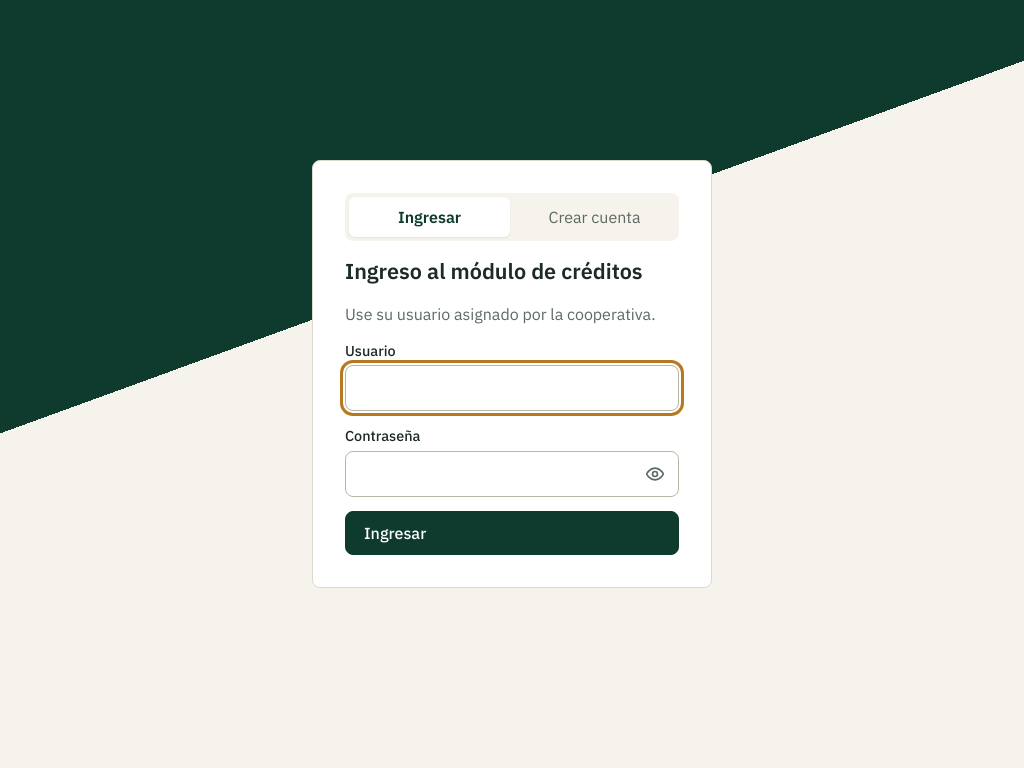
Test: login › muestra el mensaje del servidor si las credenciales son incorrectas
The width and height of the screenshot is (1024, 768).
In the field labelled "Usuario": (512, 388) [345,365,679,411], type "admin"
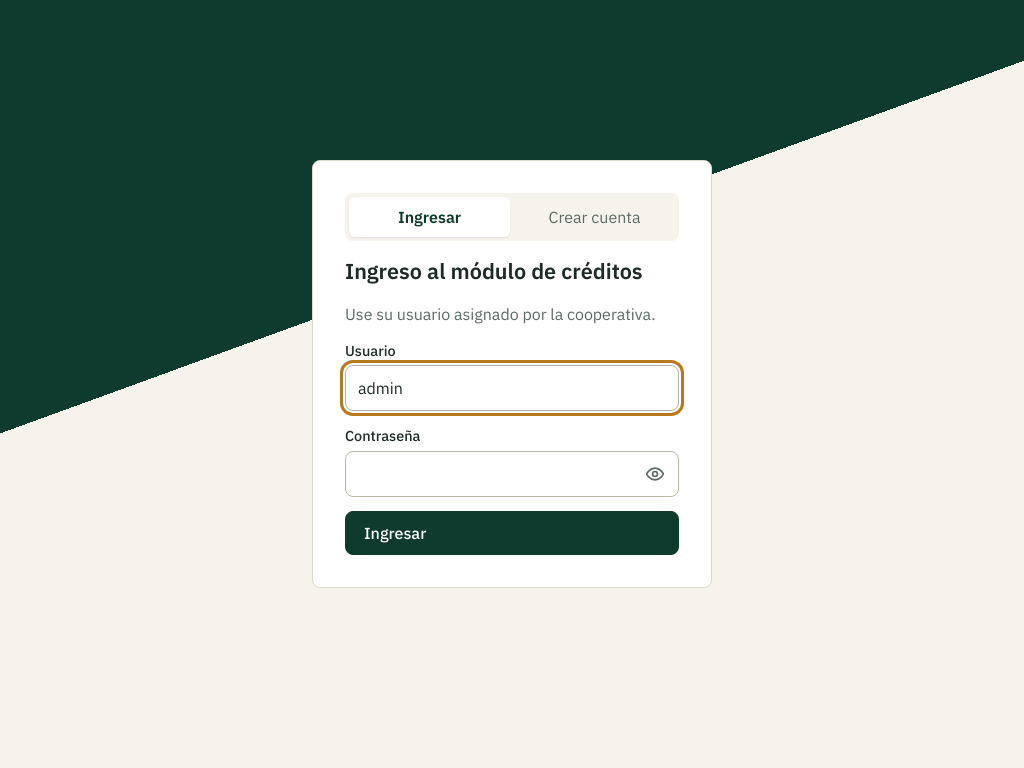
In the password field labelled "Contraseña": (512, 474) [345,451,679,497], type "mala"
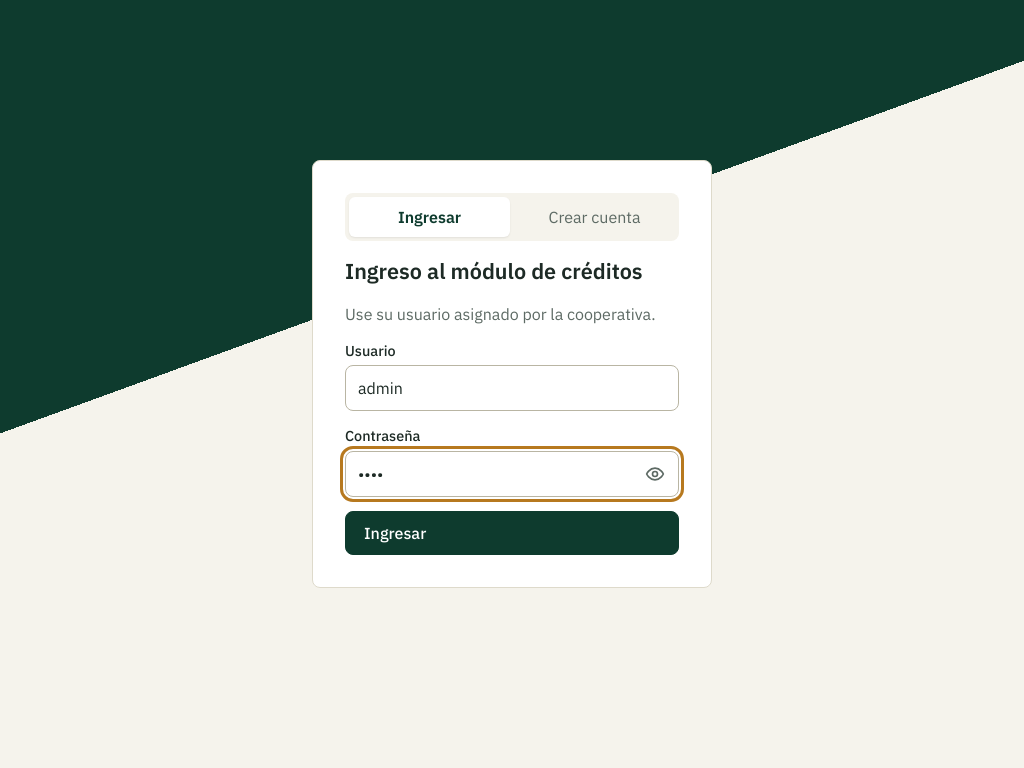
Click the 2nd button "Ingresar": (395, 533) [345,511,679,555]
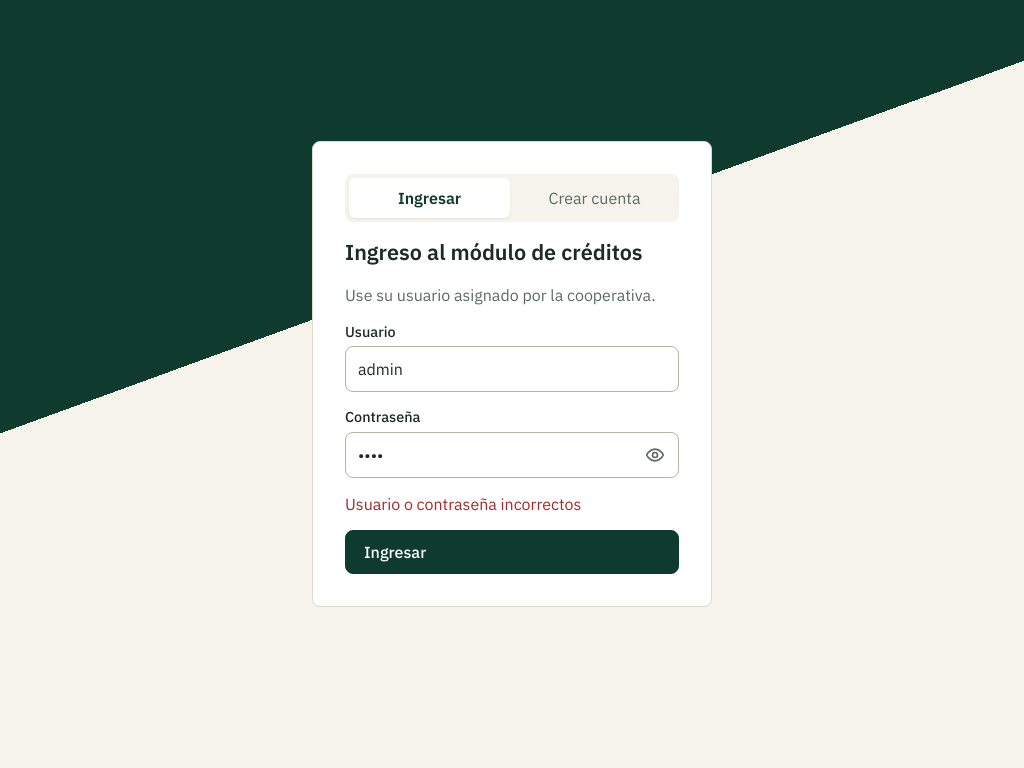
expect the message reads "Usuario o contraseña incorrectos": met, box [345,494,581,514]
